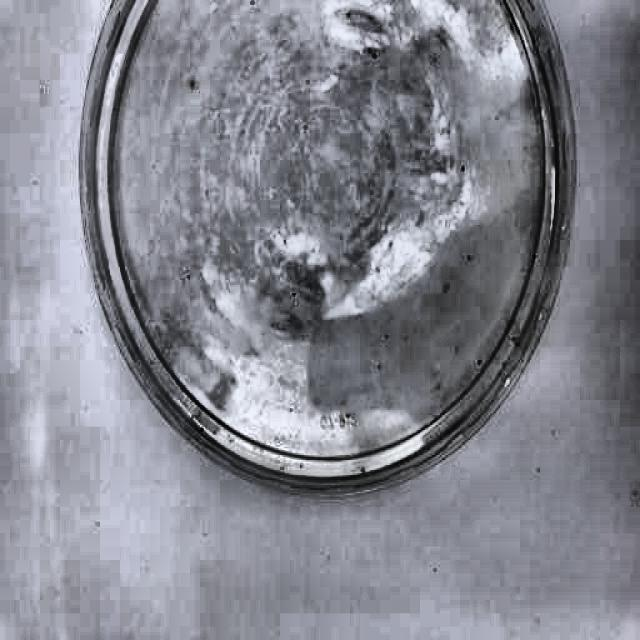plastic: (76, 8, 581, 500)
